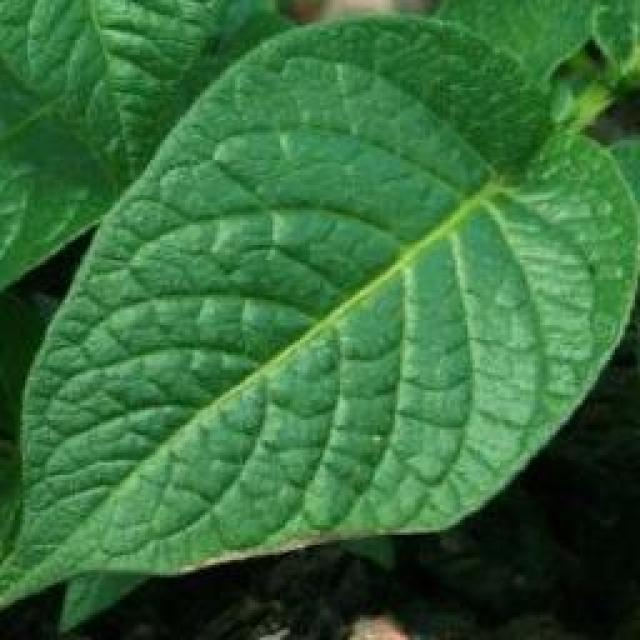healthy: (0, 8, 638, 638)
